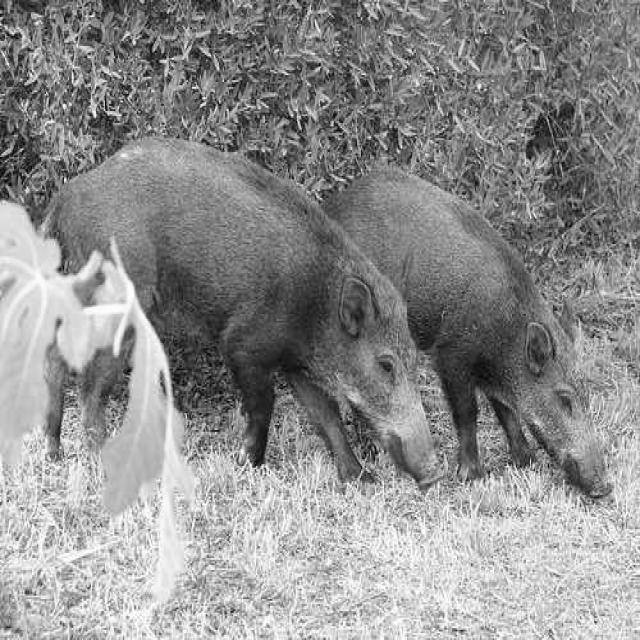boar: (40, 137, 438, 485), (323, 169, 609, 493), (78, 341, 125, 447), (45, 348, 63, 454)
